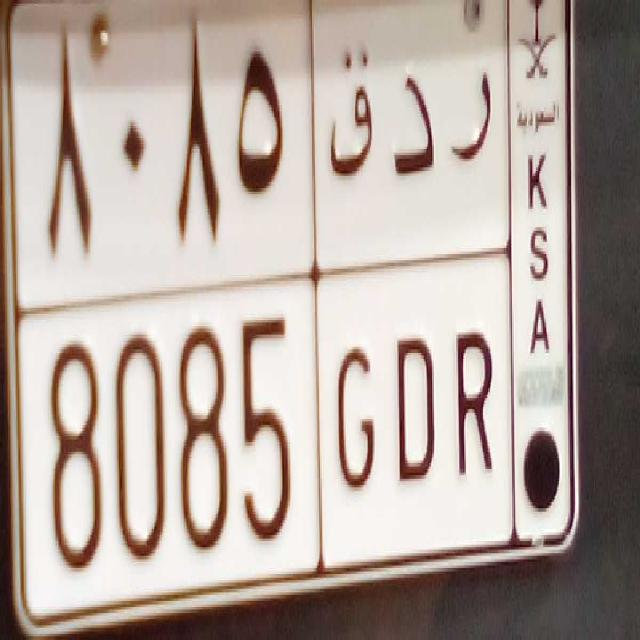license_plate: (43, 289, 511, 588)
